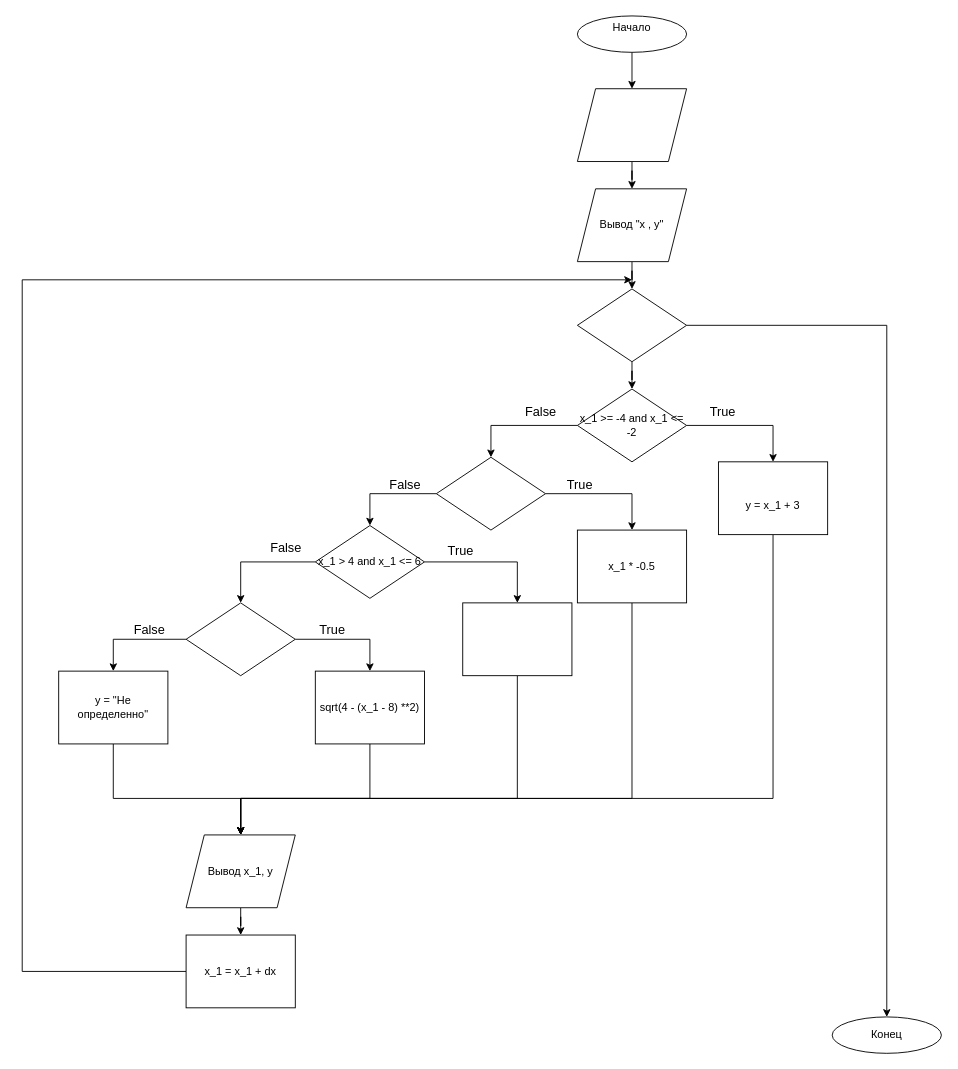
This 958x1069 diagram has some shape labels left out. Here are the shapes that lost their labels. From the top down, the centre of each, then its label:
[631,125]: Ввод x_1, x_2, dx
[631,325]: x_1 <= x_2
[490,493]: x_1 > -2 and x_1 <= 4
[240,639]: x_1 > 6 and x_1 <=10
[517,639]: y = - 2
